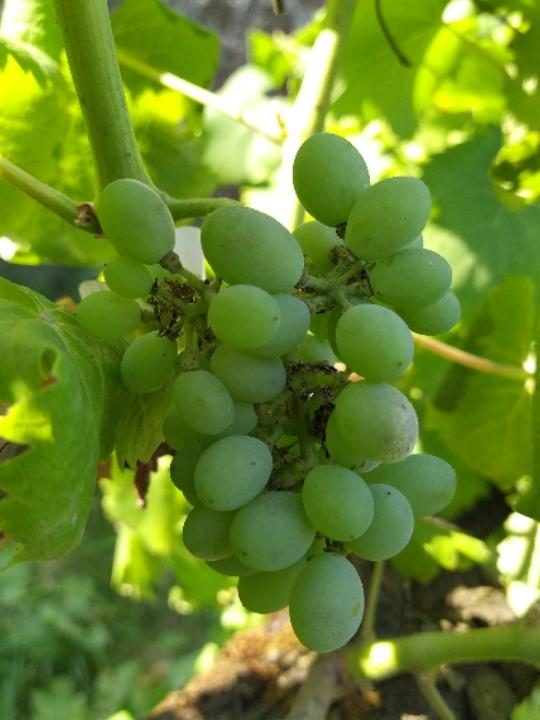grape: (69, 124, 470, 663)
